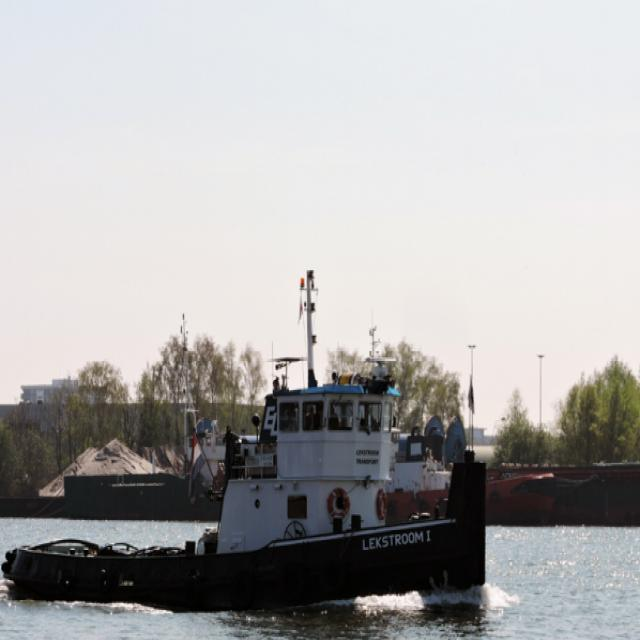tugboat: (1, 266, 494, 622)
